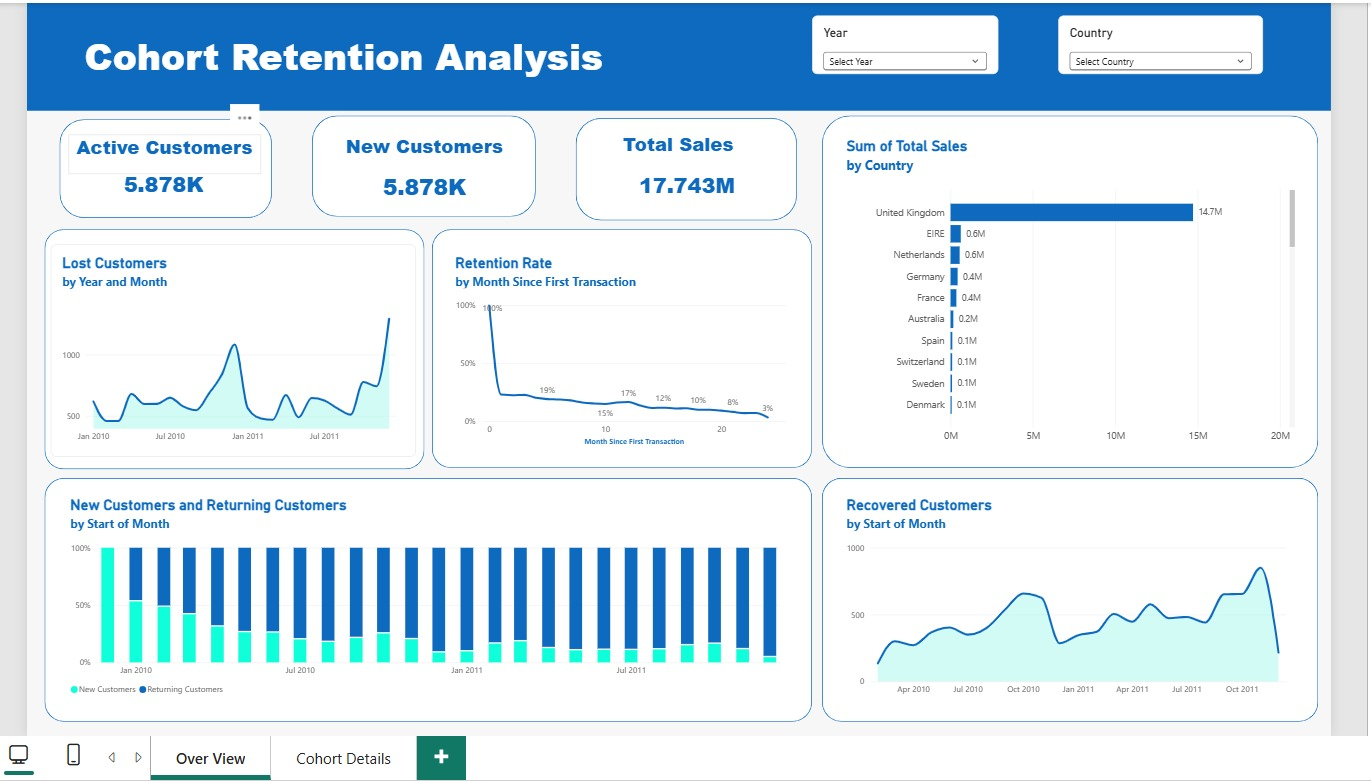

Layout of this report page (visuals, bound fields, positions):
{"tool":"powerbi","page":{"name":"Over View","canvas":[1920,1080],"ordinal":0},"visuals":[{"type":"shape","box":[0,0,1919.6,158.3],"z":0},{"type":"textbox","box":[0,40.5,933.1,77.3],"z":1000},{"type":"shape","box":[48.6,171.2,312.9,145.4],"z":2000},{"type":"cardVisual","fields":{"Data":["_measures.Active Customers"]},"box":[96.4,226.4,211.7,79.1],"z":3000},{"type":"textbox","box":[61.5,193.3,283.4,58.9],"z":4000},{"type":"shape","box":[420,166,329.4,149.1],"z":5000},{"type":"shape","box":[808,169,325.8,150.9],"z":6000},{"type":"cardVisual","fields":{"Data":["_measures.New Customers"]},"box":[499.1,236,173,68.1],"z":7000},{"type":"cardVisual","fields":{"Data":["Sum(FactSales.Total  Sales)"]},"box":[857.7,227.9,228.2,81],"z":8000},{"type":"textbox","box":[443.9,191.8,283.4,58.9],"z":9000},{"type":"textbox","box":[817.2,187.4,283.4,58.9],"z":10000},{"type":"listSlicer","fields":{"Values":["DimDate.Date.Variation.Date Hierarchy.Year"]},"box":[1155.8,18.4,274.2,86.5],"z":11000},{"type":"listSlicer","fields":{"Values":["FactSales.Country"]},"box":[1518.4,18.4,301.8,86.5],"z":12000},{"type":"shape","box":[1170.6,165.6,730.7,519],"z":13000},{"type":"barChart","fields":{"Category":["FactSales.Country"],"Y":["Sum(FactSales.Total  Sales)"]},"box":[1190.8,184.1,692,484.1],"z":14000},{"type":"shape","box":[596.3,333.1,559.5,351.5],"z":15000},{"type":"lineChart","fields":{"Category":["FactSales.Month Since First Transaction"],"Y":["_measures.Retention Rate"]},"box":[614.7,355.2,519,312.9],"z":16000},{"type":"shape","box":[25.8,333.1,559.5,353.4],"z":17000},{"type":"areaChart","fields":{"Category":["DimDate.Start of Month.Variation.Date Hierarchy.Year","DimDate.Start of Month.Variation.Date Hierarchy.Month"],"Y":["_measures.Lost Customers"]},"box":[35,355.2,537.4,312.9],"z":18000},{"type":"shape","box":[25.8,699.4,1130.1,358.9],"z":19000},{"type":"hundredPercentStackedColumnChart","fields":{"Category":["DimDate.Start of Month"],"Y":["_measures.New Customers","_measures.Returning Customers"]},"box":[47.9,712.3,1085.9,327.6],"z":20000},{"type":"shape","box":[1170.6,699.4,730.7,358.9],"z":21000},{"type":"areaChart","fields":{"Category":["DimDate.Start of Month"],"Y":["_measures.Recovered Customers"]},"box":[1190.8,712.3,692,327.6],"z":22000}]}

Visuals, with their boxes on the page's 1920x1080 design canvas (x1, y1, x2, y2). These are canvas units, not pixel positions in the 1371x781 screenshot, which may show the page scaled, cropped or inside an application window:
shape: {"left": 0, "top": 0, "right": 1920, "bottom": 158}
textbox: {"left": 0, "top": 40, "right": 933, "bottom": 118}
shape: {"left": 49, "top": 171, "right": 362, "bottom": 317}
cardVisual - _measures.Active Customers: {"left": 96, "top": 226, "right": 308, "bottom": 306}
textbox: {"left": 62, "top": 193, "right": 345, "bottom": 252}
shape: {"left": 420, "top": 166, "right": 749, "bottom": 315}
shape: {"left": 808, "top": 169, "right": 1134, "bottom": 320}
cardVisual - _measures.New Customers: {"left": 499, "top": 236, "right": 672, "bottom": 304}
cardVisual - Sum(FactSales.Total  Sales): {"left": 858, "top": 228, "right": 1086, "bottom": 309}
textbox: {"left": 444, "top": 192, "right": 727, "bottom": 251}
textbox: {"left": 817, "top": 187, "right": 1101, "bottom": 246}
listSlicer - DimDate.Date.Variation.Date Hierarchy.Year: {"left": 1156, "top": 18, "right": 1430, "bottom": 105}
listSlicer - FactSales.Country: {"left": 1518, "top": 18, "right": 1820, "bottom": 105}
shape: {"left": 1171, "top": 166, "right": 1901, "bottom": 685}
barChart - FactSales.Country x Sum(FactSales.Total  Sales): {"left": 1191, "top": 184, "right": 1883, "bottom": 668}
shape: {"left": 596, "top": 333, "right": 1156, "bottom": 685}
lineChart - FactSales.Month Since First Transaction x _measures.Retention Rate: {"left": 615, "top": 355, "right": 1134, "bottom": 668}
shape: {"left": 26, "top": 333, "right": 585, "bottom": 686}
areaChart - DimDate.Start of Month.Variation.Date Hierarchy.Year x DimDate.Start of Month.Variation.Date Hierarchy.Month: {"left": 35, "top": 355, "right": 572, "bottom": 668}
shape: {"left": 26, "top": 699, "right": 1156, "bottom": 1058}
hundredPercentStackedColumnChart - DimDate.Start of Month x _measures.New Customers: {"left": 48, "top": 712, "right": 1134, "bottom": 1040}
shape: {"left": 1171, "top": 699, "right": 1901, "bottom": 1058}
areaChart - DimDate.Start of Month x _measures.Recovered Customers: {"left": 1191, "top": 712, "right": 1883, "bottom": 1040}
